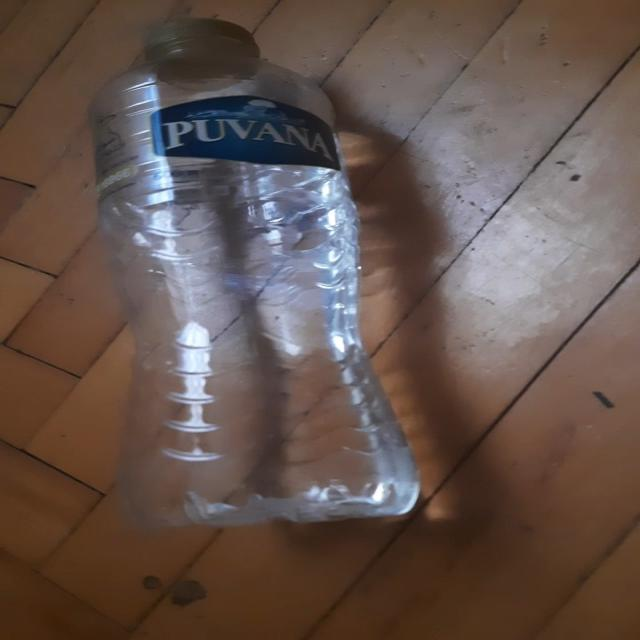Plastic: (86, 18, 423, 536)
